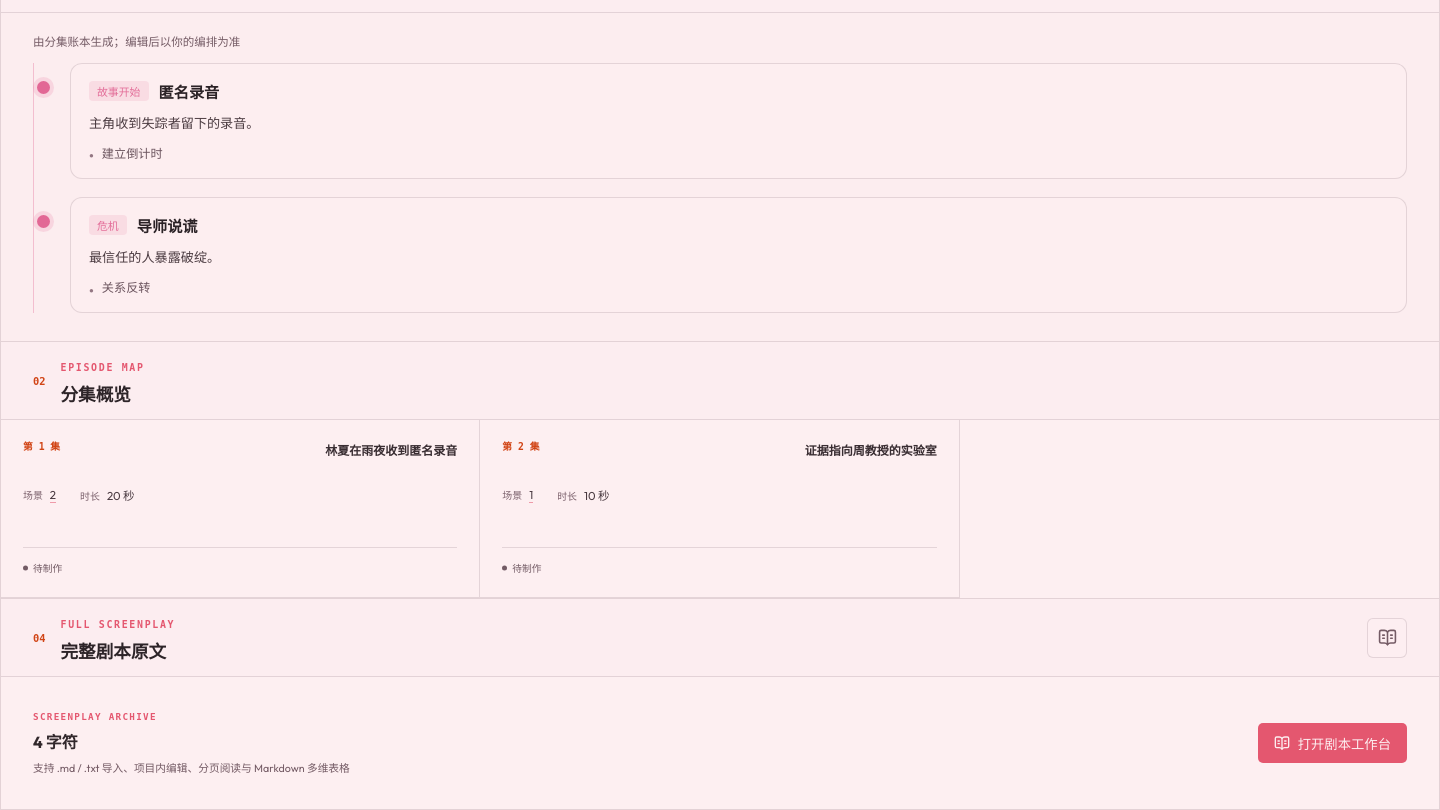
Test case: WriterAgentPage › asks before closing an unsaved screenplay draft
(page scrolled)
Click the button named "分页阅读完整剧本".
click(1387, 638)  # box [1367,618,1407,658]
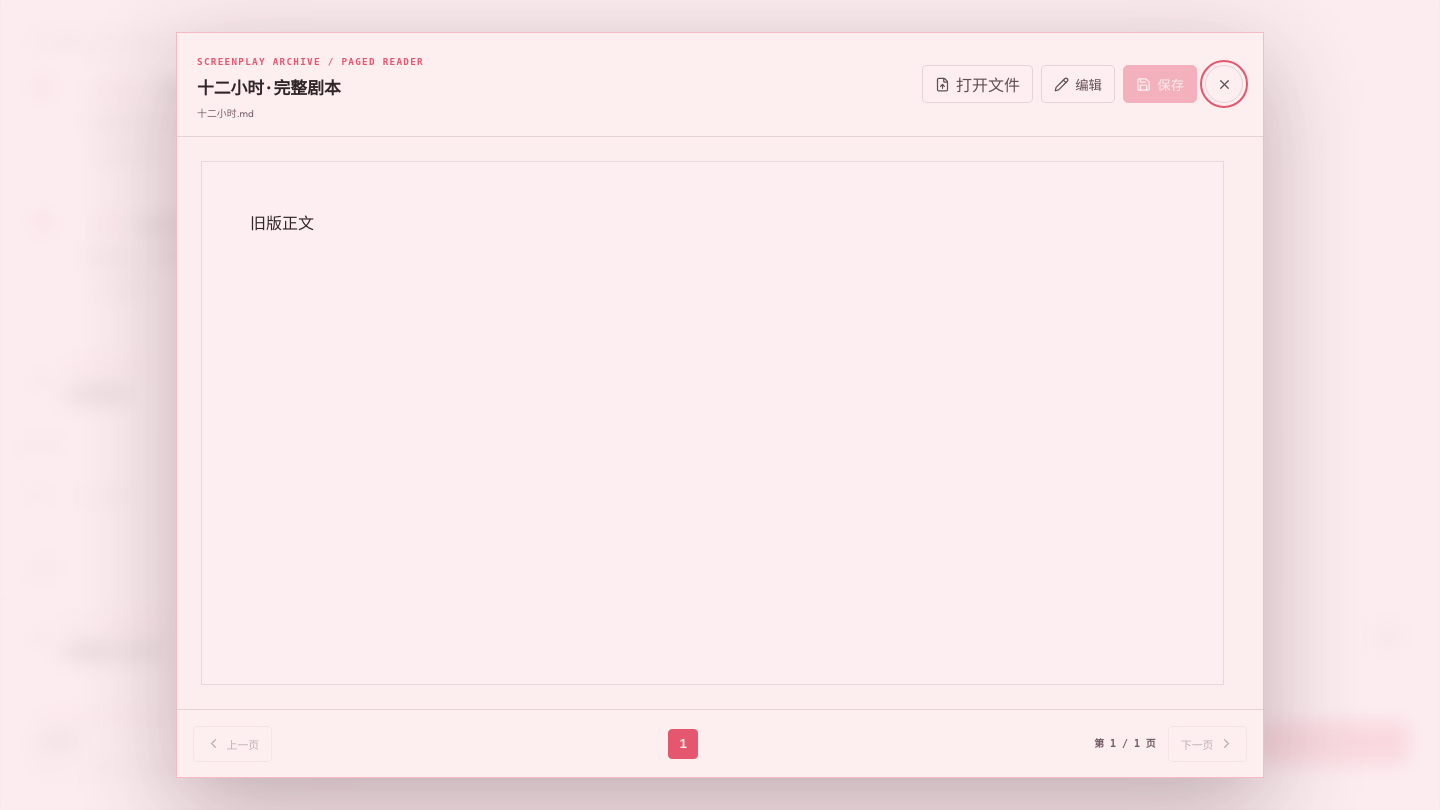
Click the button with aria-label "编辑剧本".
click(1078, 84)  # box [1041,66,1115,104]
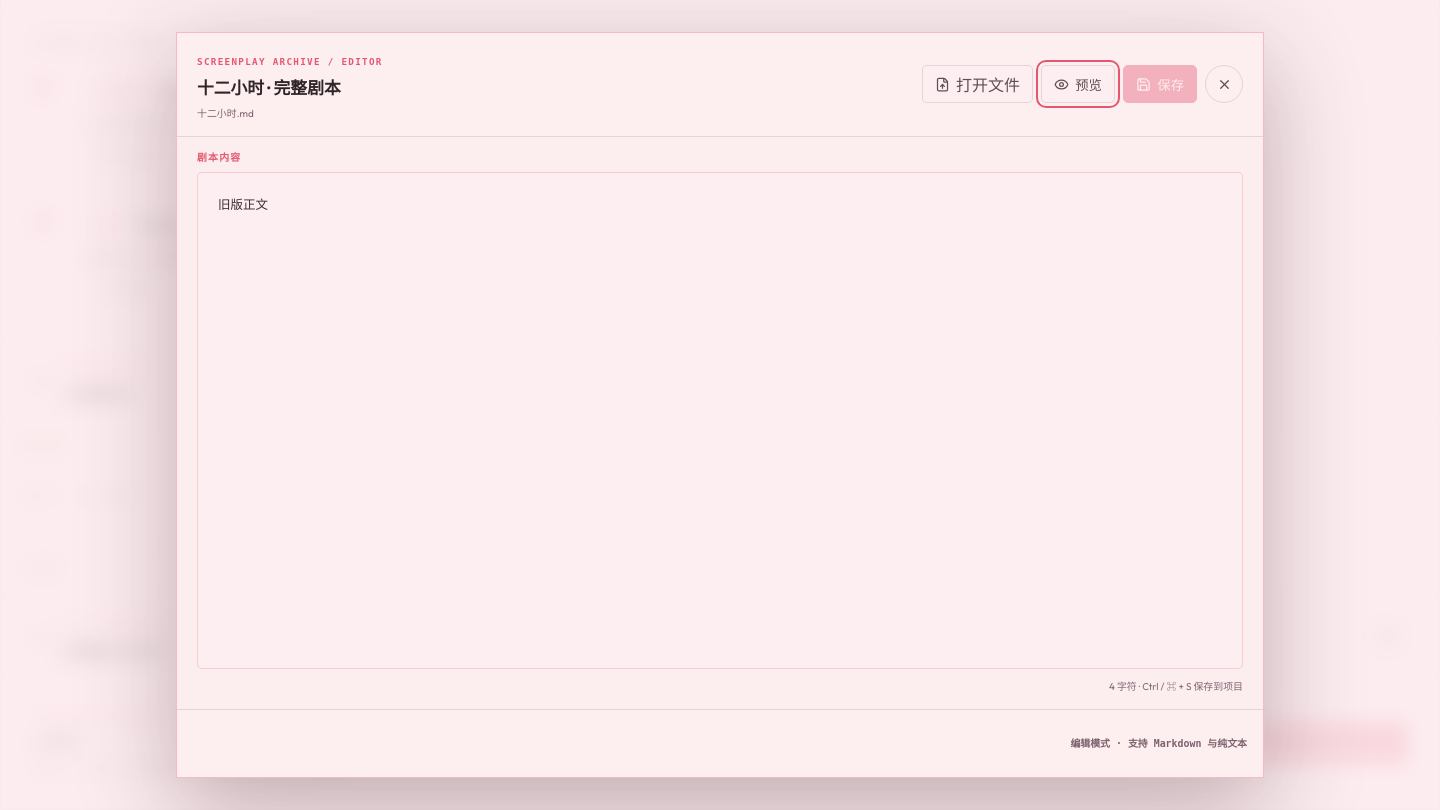
Type "，尚未保存" into the text box labelled "剧本内容".
click(720, 420); type("，尚未保存")  # box [197,172,1243,669]
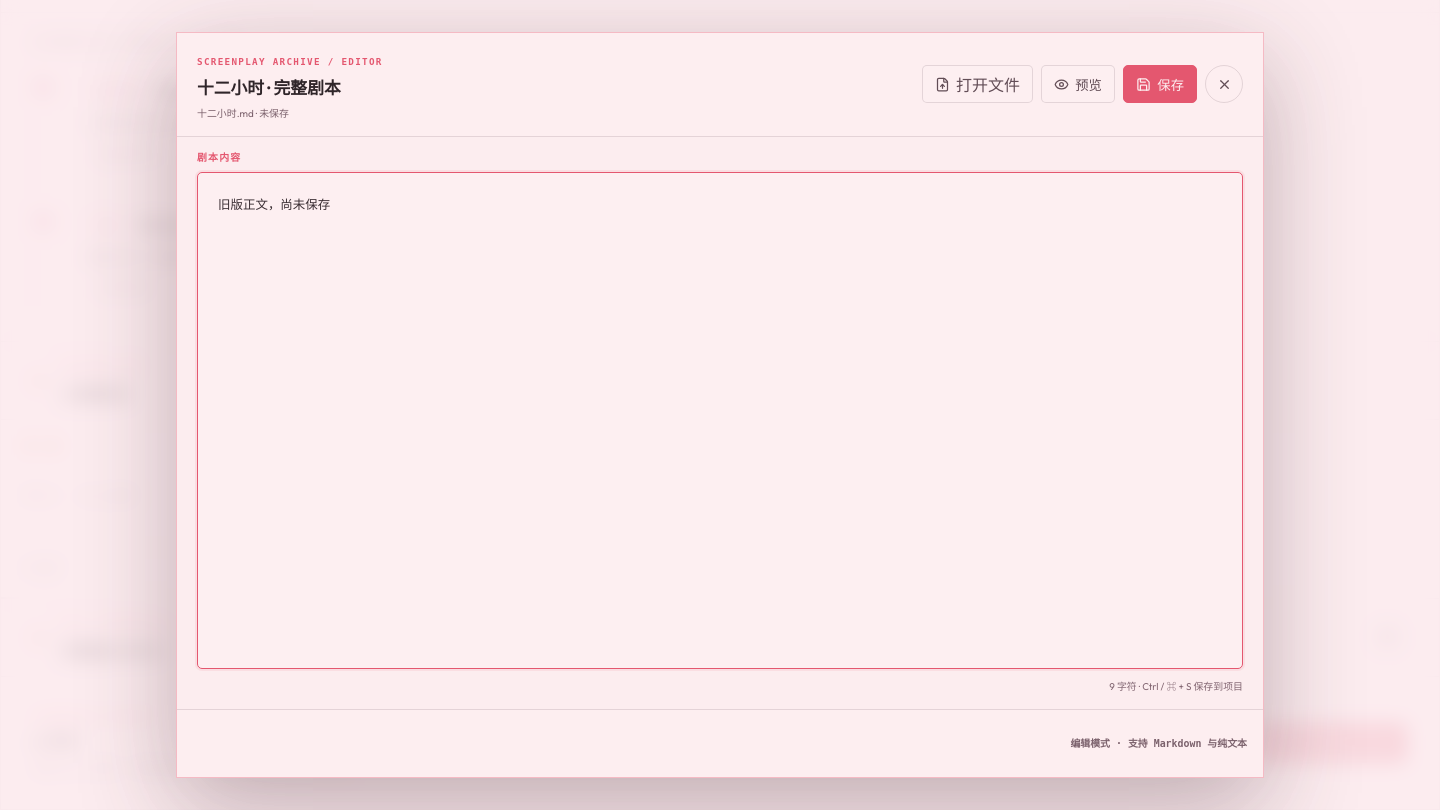
Press Escape
Check: the dialog "十二小时 · 完整剧本" is shown
Press Escape
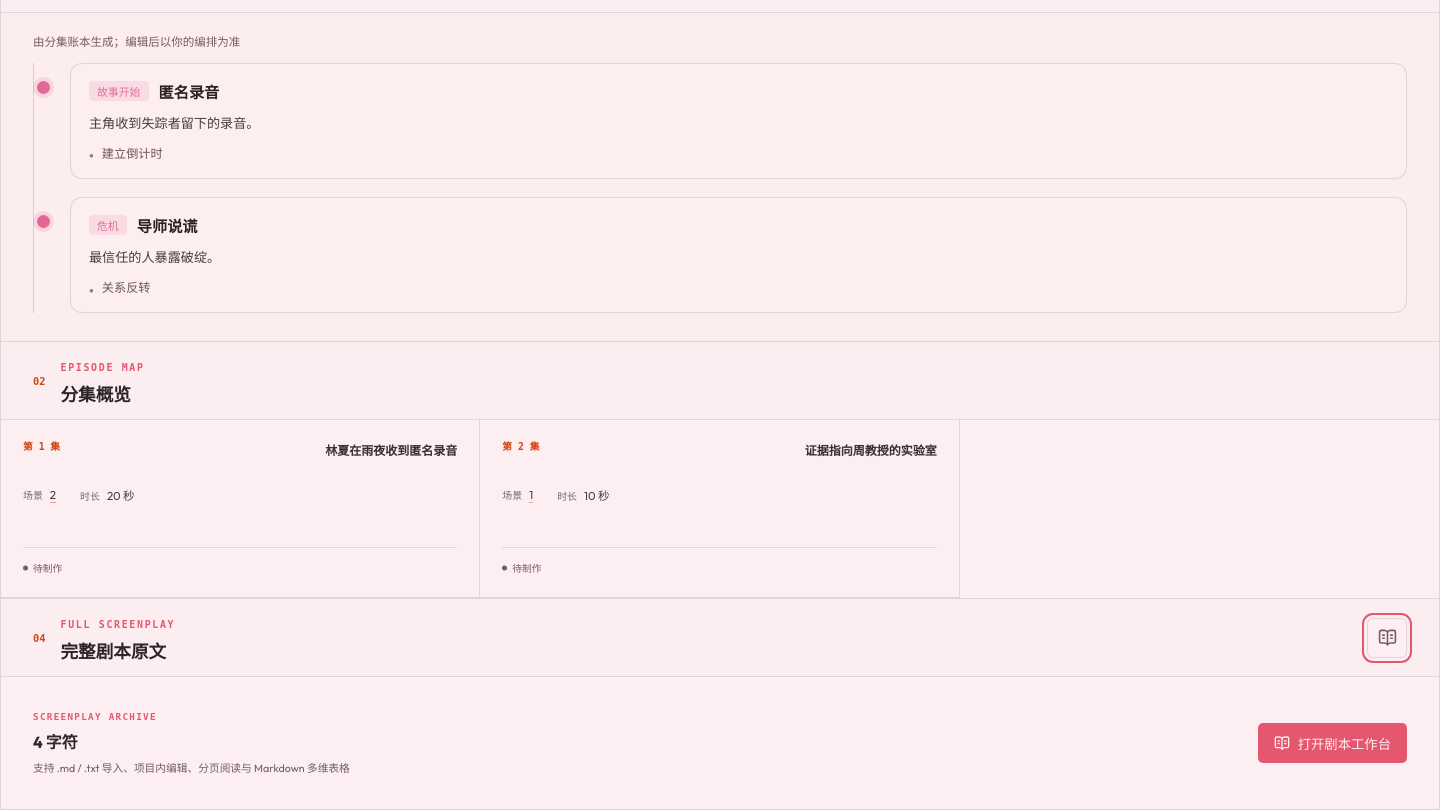
Check: the heading "十二小时 · 完整剧本" is gone
